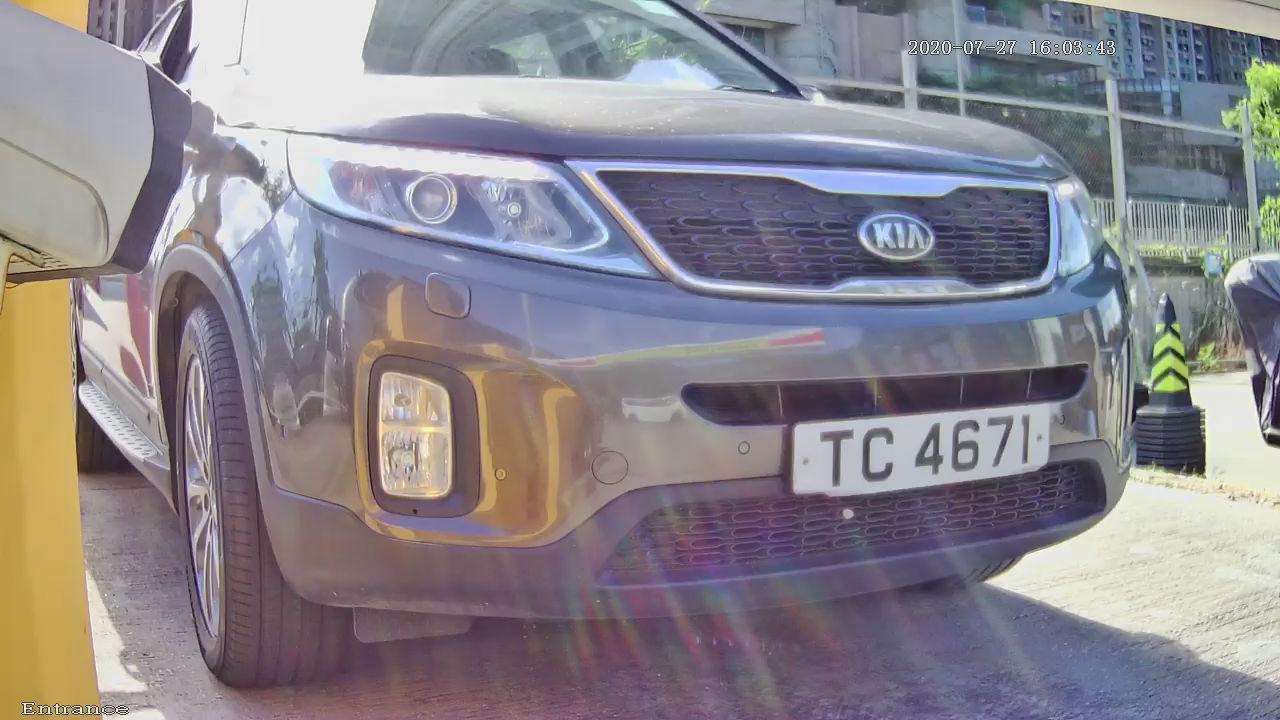privatecar: (103, 29, 1206, 634)
